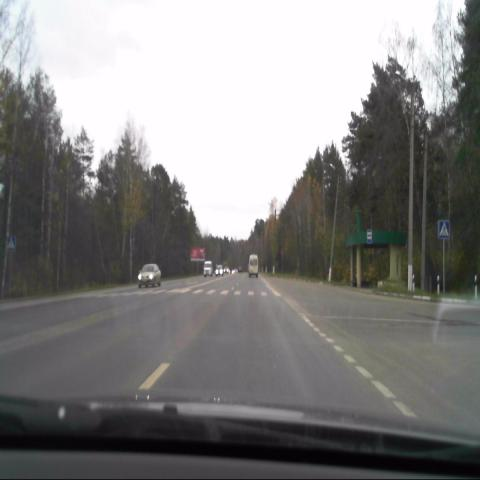5_16: (367, 228, 374, 246)
5_19_1: (436, 219, 450, 238), (7, 234, 15, 251)
